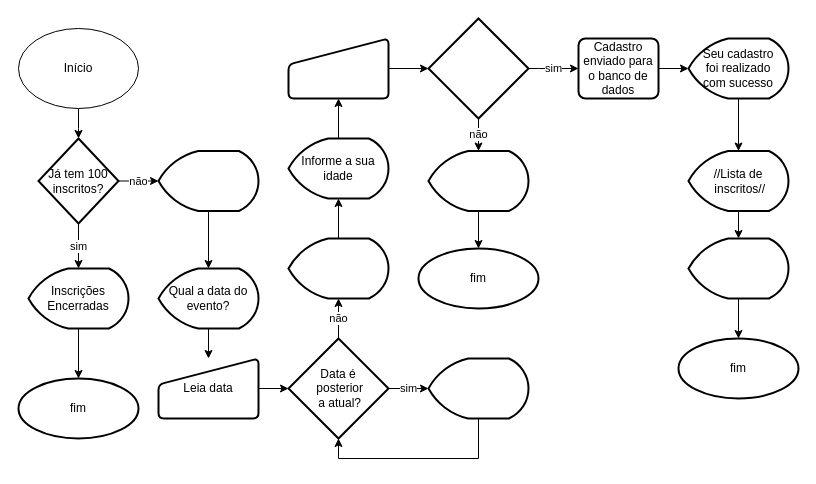
The diagram is 816 pixels wide and 484 high, and some of its shapes have lost their labels. The centre of each missing label's shape, as x and y in pixels:
//Lista de palestrantes//: point (738, 268)
Cadastro não permitido pela idade: point (478, 181)
Data inválida. Insira uma data Válida: point (478, 388)
Inscrições Abertas. Garanta a sua vaga: point (208, 181)
Leia idade: point (338, 68)
Maior de 18 anos?: point (478, 68)
Prossiga com o cadastro: point (338, 268)
